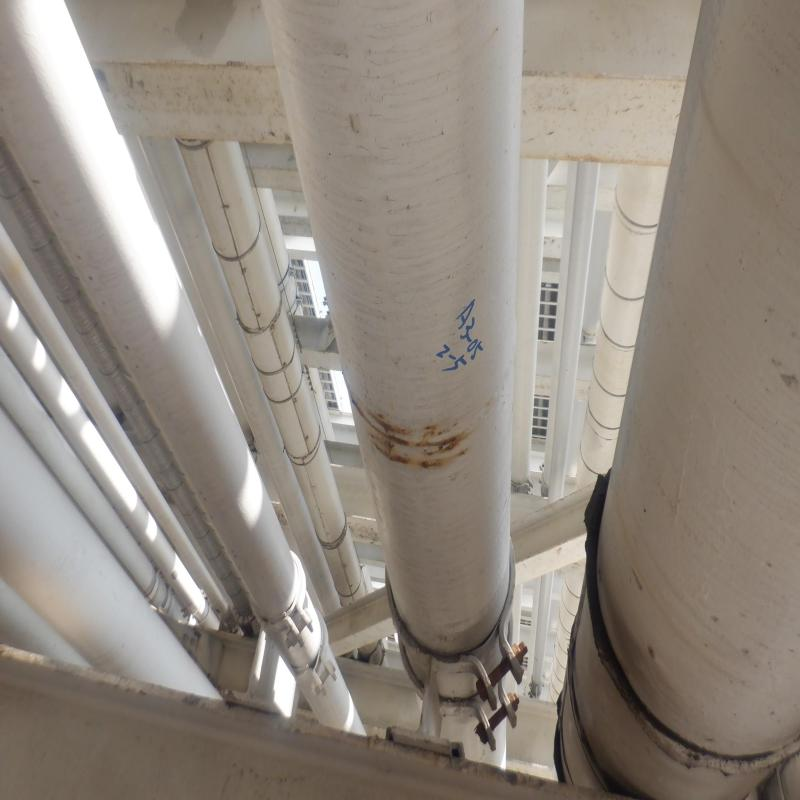corrosion: (375, 422, 455, 466)
